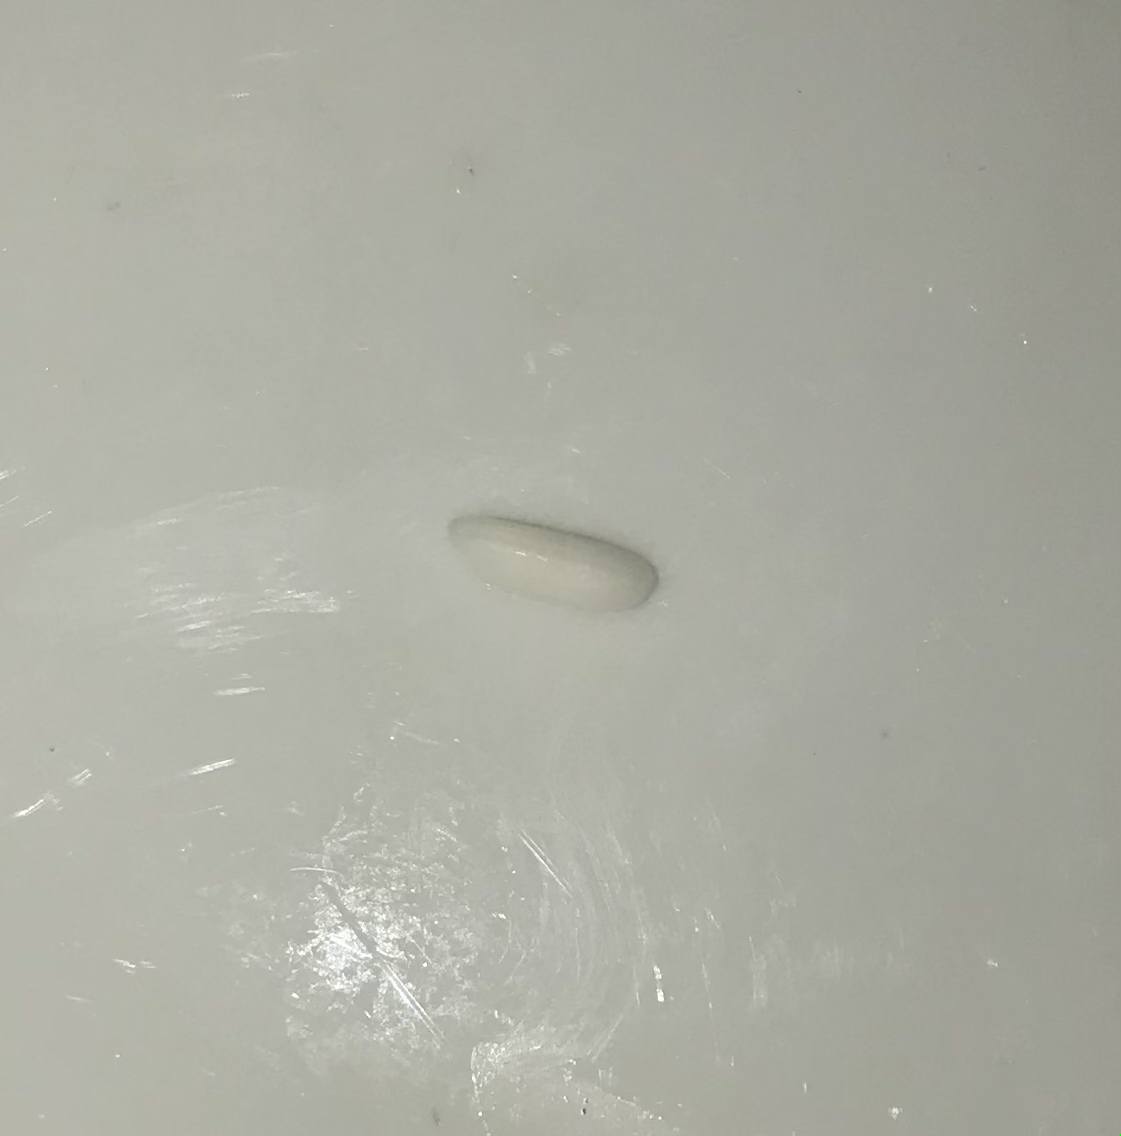Gao Lai Sua: (440, 508, 661, 618)
